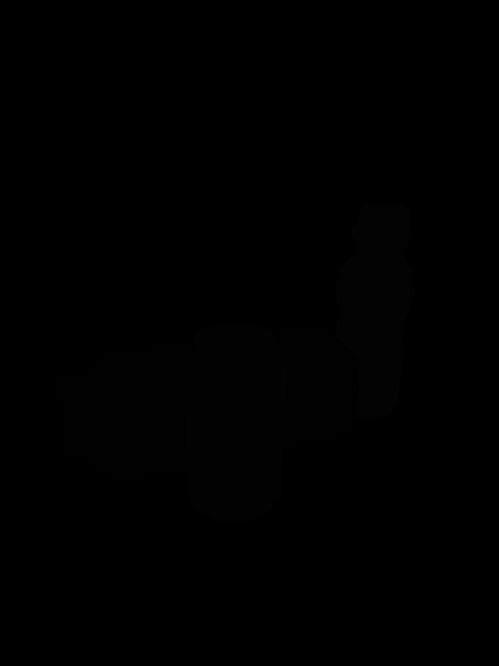can: (182, 318, 290, 526)
carton: (48, 322, 363, 487)
milk_bottle: (332, 201, 416, 424)
